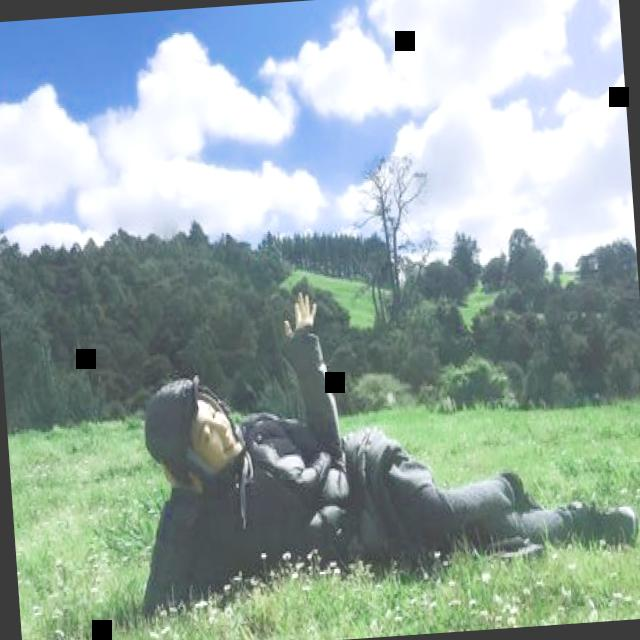Fall-Detected: (108, 227, 640, 620)
